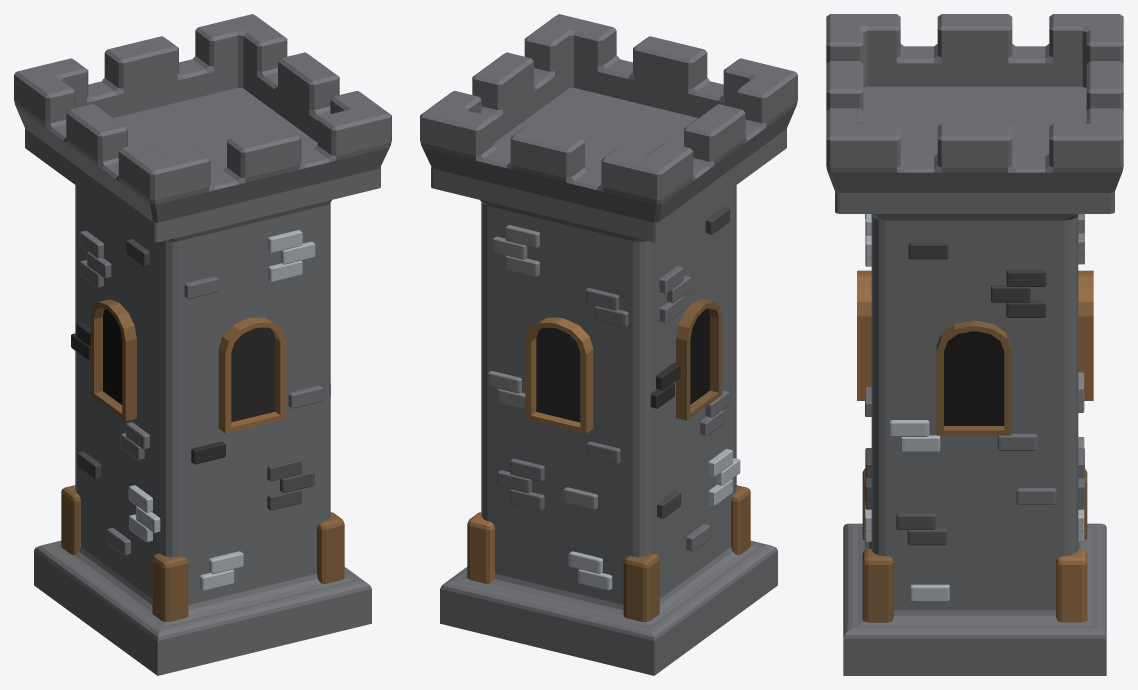
File: turn1.fbx
3 views of the same model, side by side, from view 1: azimuth 30°, elevation 25°; view 2: azimuth 150°, elevation 25°; view 3: azimuth 270°, elevation 25° (orthographic). The views are drawn at different scales.
Visible parts, largest first — view 1: Cube, Cube.004, Cube.002; view 2: Cube, Cube.003, Cube.002; view 3: Cube, Cube.001, Cube.003, Cube.004.
Boxes of the visible parts, left/top/right/bottom form: Cube: left=14, top=14, right=391, bottom=675; Cube.004: left=218, top=317, right=286, bottom=433; Cube.002: left=90, top=299, right=136, bottom=421; Cube: left=420, top=14, right=797, bottom=675; Cube.003: left=525, top=317, right=593, bottom=433; Cube.002: left=676, top=298, right=722, bottom=420; Cube: left=826, top=14, right=1123, bottom=675; Cube.001: left=936, top=320, right=1011, bottom=435; Cube.003: left=1078, top=270, right=1093, bottom=400; Cube.004: left=857, top=270, right=871, bottom=400.
Size of the model in its own units: 1504 by 3043 by 1504.
